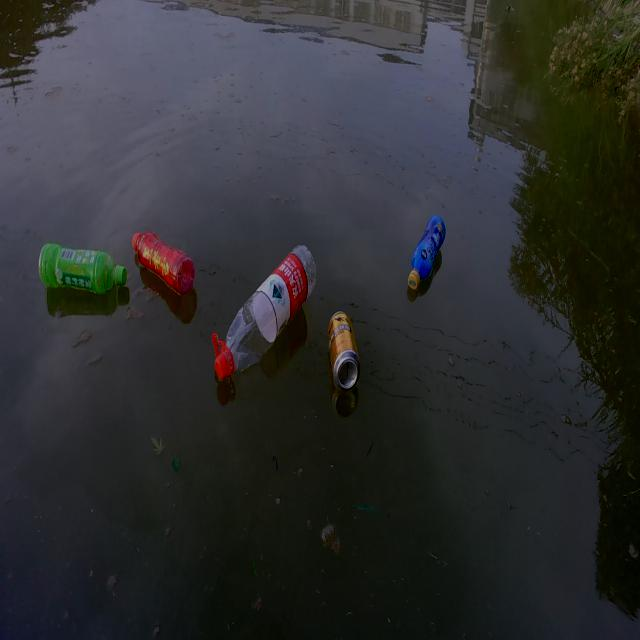bottle: (204, 224, 330, 395), (120, 211, 210, 312), (26, 231, 142, 305), (399, 202, 455, 294)
